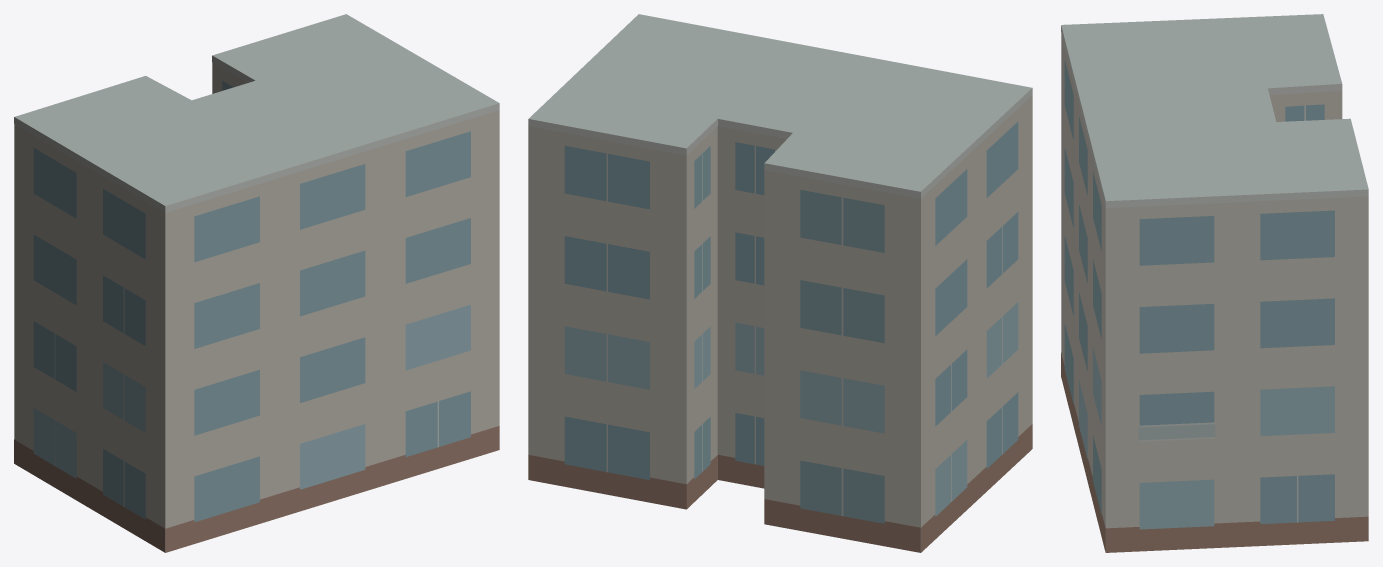
File: survey-upis-32904680.glb
3 renders of one model, left to right at view 1: azimuth 30°, elevation 25°; view 2: azimuth 150°, elevation 25°; view 3: azimuth 270°, elevation 25°, orthographic. The views are drawn at different scales.
Visible parts, largest first — view 1: survey-upis-32904680.tmp; view 2: survey-upis-32904680.tmp; view 3: survey-upis-32904680.tmp.
Boxes of the visible parts, x1,y1,x2,y2 form: survey-upis-32904680.tmp: [14, 14, 499, 552]; survey-upis-32904680.tmp: [528, 14, 1032, 552]; survey-upis-32904680.tmp: [1061, 14, 1368, 552].
Bounding box in the file's own units: 14.16 × 12.4 × 9.84.
